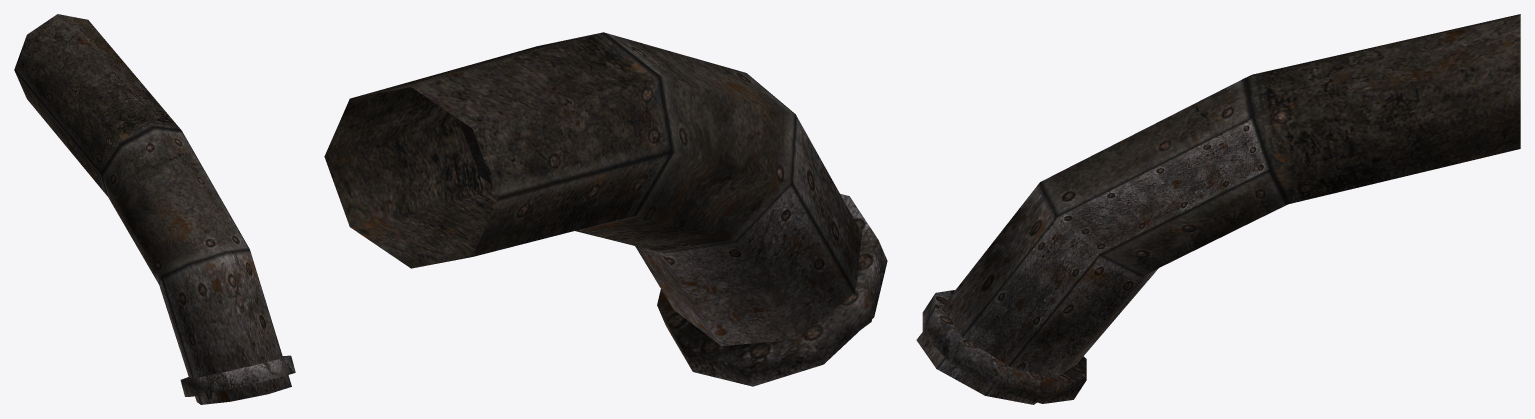
File: cistern_breakable_pipe04.dae
3 renders of one model, left to right at view 1: azimuth 30°, elevation 25°; view 2: azimuth 150°, elevation 25°; view 3: azimuth 270°, elevation 25°, orthographic. The views are drawn at different scales.
Parts seen in each view (by area): view 1: cistern_breakable_pipe04; view 2: cistern_breakable_pipe04; view 3: cistern_breakable_pipe04.
Boxes of the visible parts, left/top/right/bottom form: cistern_breakable_pipe04: left=14, top=14, right=295, bottom=404; cistern_breakable_pipe04: left=324, top=32, right=887, bottom=386; cistern_breakable_pipe04: left=916, top=14, right=1520, bottom=404.
Bounding box in the file's own units: 0.3954 × 1.01 × 1.48.
